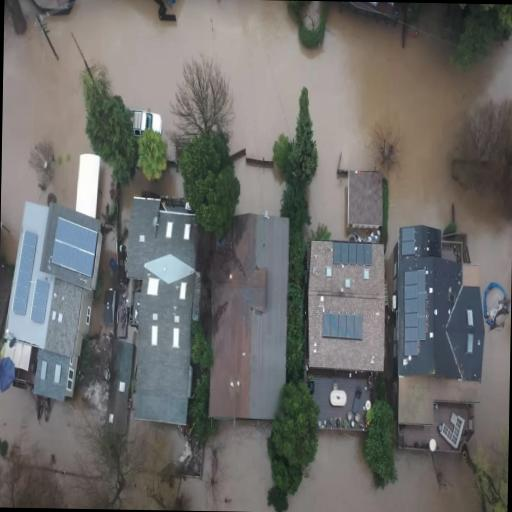flood: (0, 0, 512, 297), (0, 0, 512, 294), (0, 0, 512, 286), (286, 433, 482, 512), (181, 420, 275, 512), (0, 386, 92, 473), (119, 164, 184, 225), (235, 156, 284, 214), (55, 475, 98, 509)
house: (0, 196, 105, 408), (208, 205, 293, 425), (124, 192, 201, 426), (392, 234, 481, 383), (305, 237, 391, 384), (344, 166, 388, 240)
